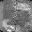people: (2, 19, 13, 29)
